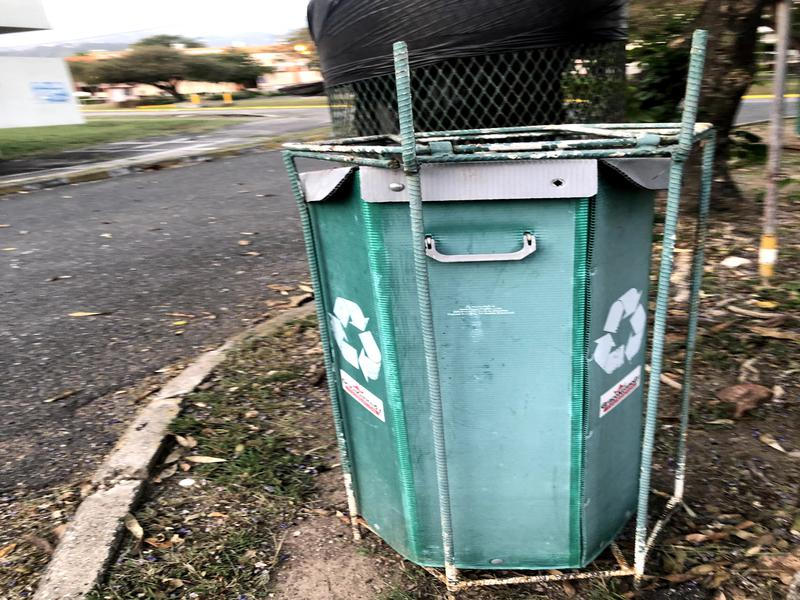18.0053245_-76.7486424_recyclebin: (261, 113, 742, 587)
